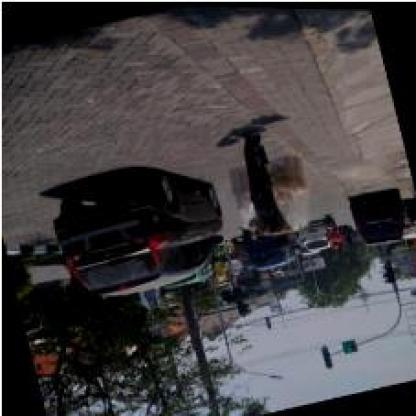green: (383, 258, 398, 282), (320, 344, 332, 368), (232, 290, 244, 312)
